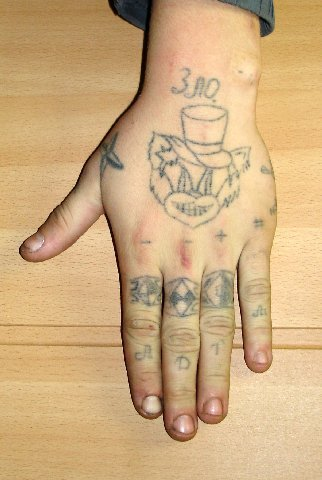tatu3_bukva: (168, 64, 227, 99), (132, 341, 157, 363), (172, 351, 195, 374), (248, 304, 274, 321), (211, 338, 230, 359)
tatu8_kot: (146, 103, 249, 223)
